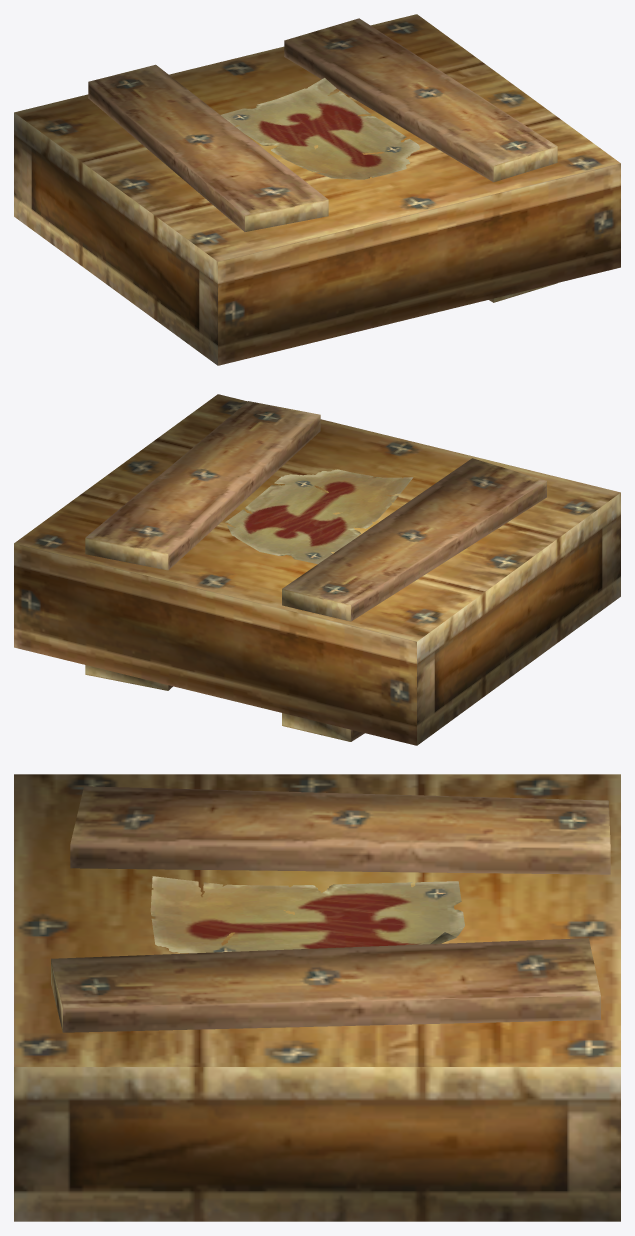
Rendered from weaponcratehordeaxe.glb.
3 renders of one model, top to bottom at view 1: azimuth 30°, elevation 25°; view 2: azimuth 150°, elevation 25°; view 3: azimuth 270°, elevation 25°, orthographic. The views are drawn at different scales.
Bounding box in the file's own units: 1.98 × 0.6453 × 1.74.
1 material, 1 textured.
